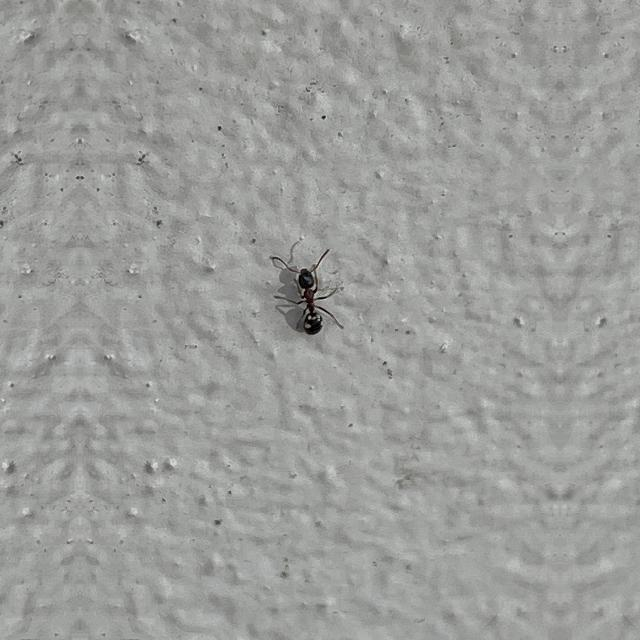Dolichoderus: (280, 246, 340, 342)
